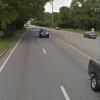Car: (36, 26, 54, 40)
